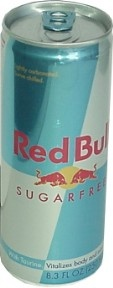grozi_61: (0, 0, 112, 286)
